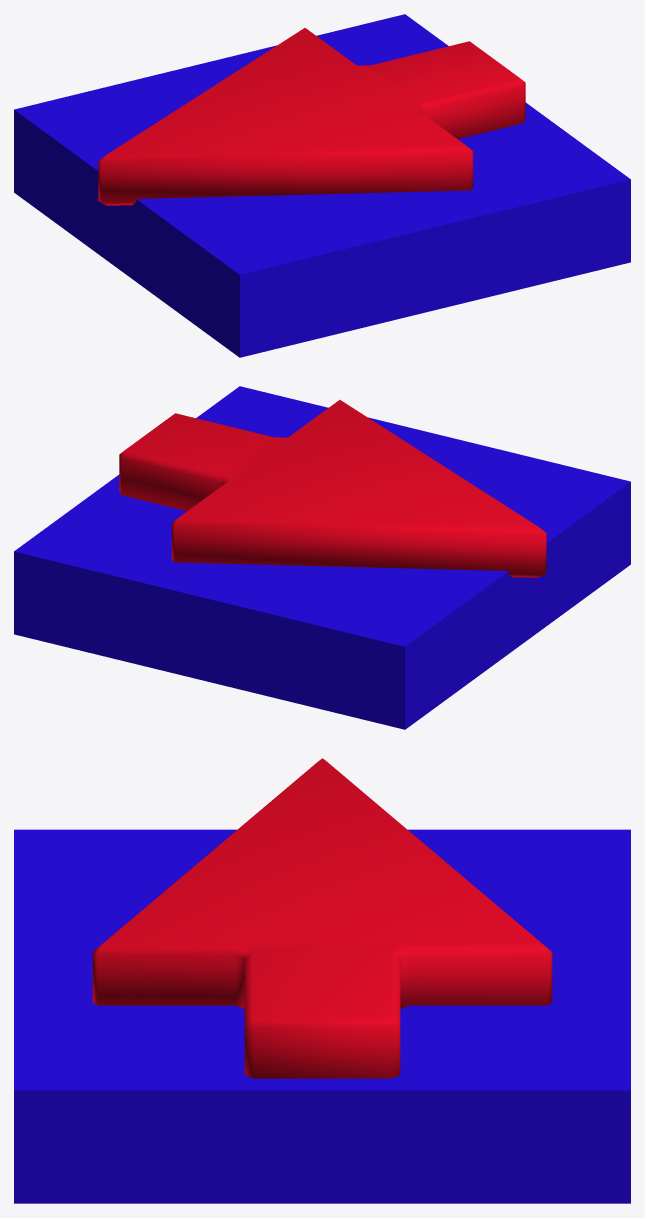
File: Device.fbx
3 renders of one model, top to bottom at view 1: azimuth 30°, elevation 25°; view 2: azimuth 150°, elevation 25°; view 3: azimuth 270°, elevation 25°, orthographic. The views are drawn at different scales.
Visible parts, largest first — view 1: Cube; view 2: Cube; view 3: Cube.
Part boxes in pixels (left/top/right/bottom): Cube: left=14, top=14, right=630, bottom=357; Cube: left=14, top=386, right=630, bottom=729; Cube: left=14, top=758, right=630, bottom=1203.
Size of the model in its own units: 214 by 61.36 by 200.
